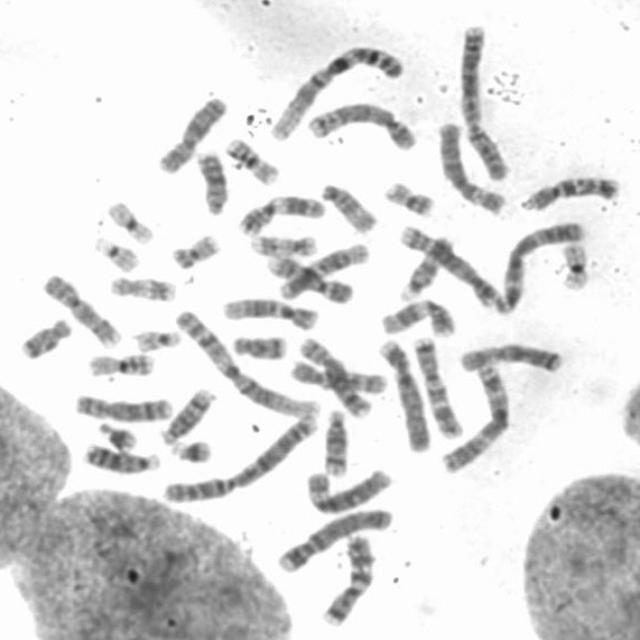A1: (172, 306, 321, 418), (264, 42, 407, 143)
A2: (158, 409, 322, 506), (454, 19, 511, 183)
A3: (490, 218, 588, 316), (437, 359, 512, 474)
B4: (272, 504, 394, 574), (376, 334, 432, 454)
B5: (396, 221, 501, 308), (304, 99, 418, 152)
C10: (517, 172, 622, 213), (286, 356, 389, 396)
C11: (233, 191, 327, 238), (377, 297, 456, 338)
C12: (273, 238, 371, 300), (218, 294, 320, 331)
C6: (434, 118, 508, 216), (302, 464, 391, 515)
C7: (315, 532, 377, 629), (409, 332, 464, 439)
C8: (294, 333, 373, 420), (70, 391, 174, 424)
C9: (39, 270, 122, 350), (264, 252, 354, 305)
D13: (81, 440, 160, 474), (193, 148, 230, 216)
D14: (157, 385, 216, 445), (319, 406, 350, 478)
D15: (396, 234, 455, 302), (317, 180, 379, 234)
E16: (222, 134, 281, 187), (84, 348, 157, 377)
E17: (107, 273, 178, 303), (246, 231, 320, 259)
E18: (16, 316, 73, 362), (229, 331, 288, 362)
F19: (103, 198, 156, 246), (556, 238, 592, 292)
F20: (380, 179, 437, 218), (168, 231, 222, 271)
G21: (93, 419, 140, 453), (167, 436, 214, 465)
G22: (89, 234, 140, 273), (130, 325, 183, 355)
X: (154, 92, 228, 175), (453, 339, 565, 375)
